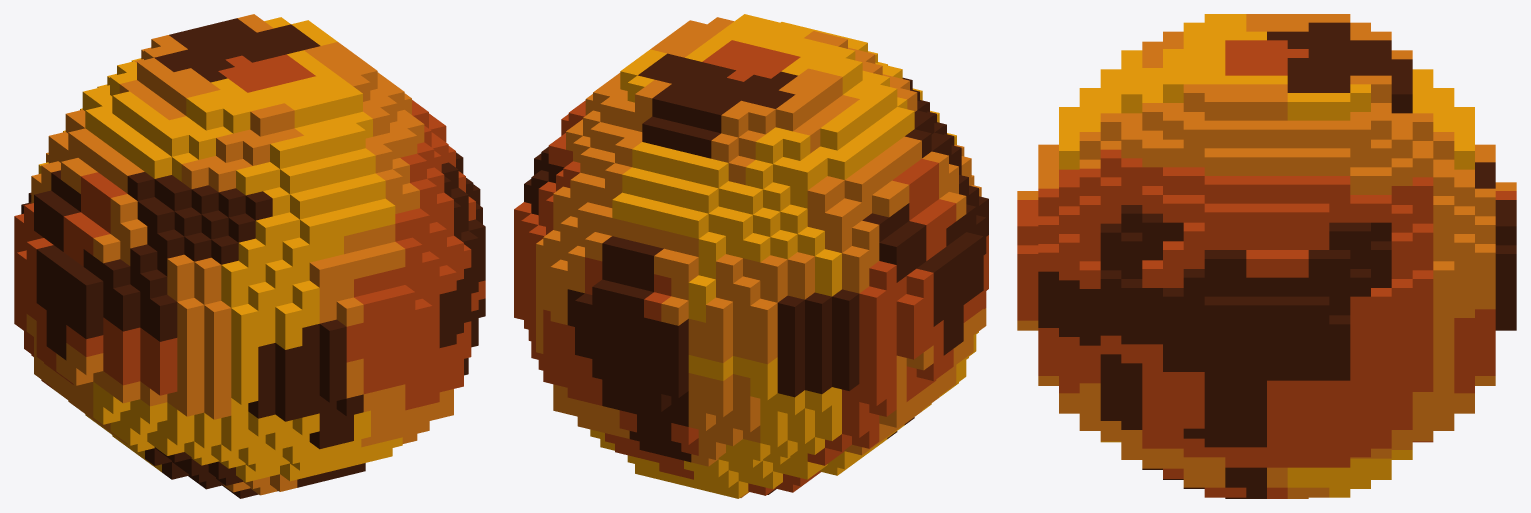
Rendered from planet_4.obj.
3 renders of one model, left to right at view 1: azimuth 30°, elevation 25°; view 2: azimuth 150°, elevation 25°; view 3: azimuth 270°, elevation 25°, orthographic. The views are drawn at different scales.
Bounding box in the file's own units: 23 × 22 × 24.
Materials: 1 (1 with a texture image).
